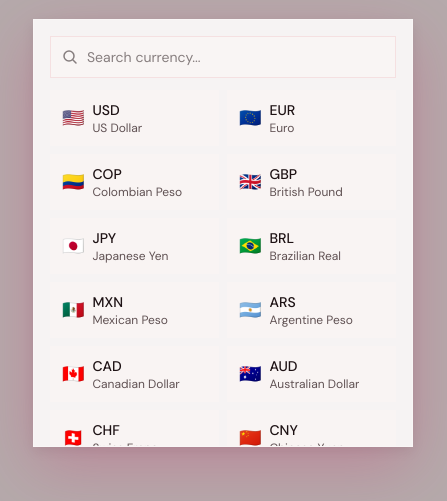
Test: CurrencySelector › filters currencies by search query
Type "EUR" into the field with placeholder "Search currency..." at (223, 57), box [50,36,396,78]
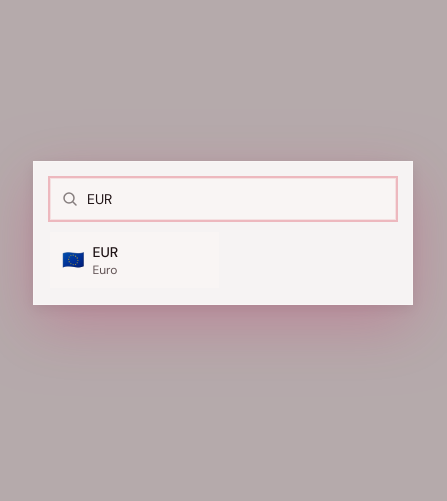
Expected: the text "EUR" is shown, [92,242,118,262]
Expected: the button "USD" is gone
